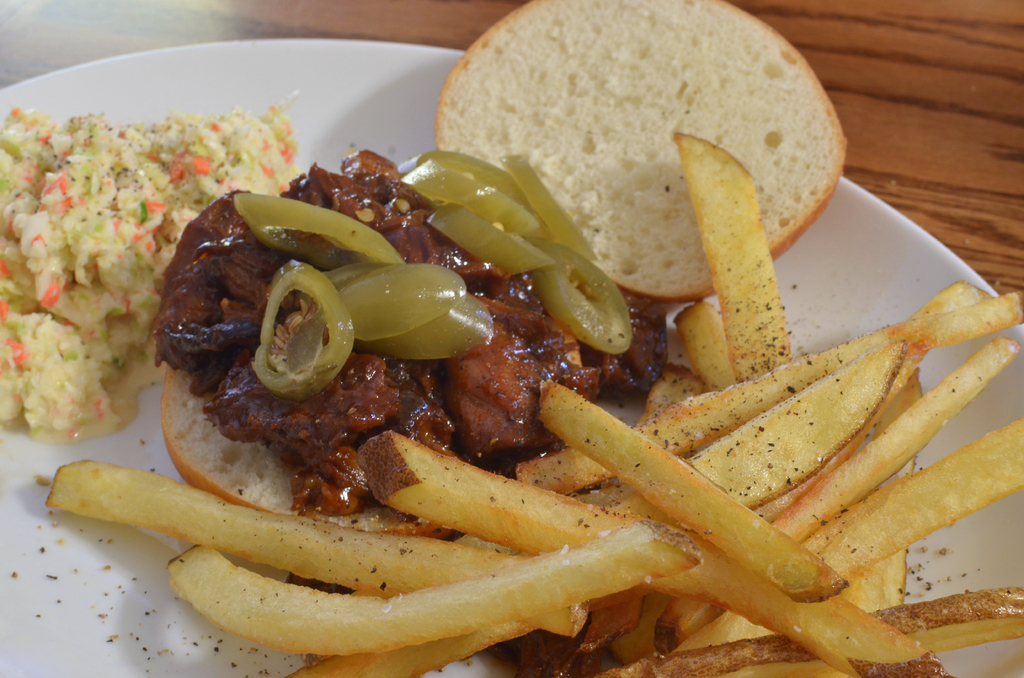French fries: (88, 119, 1011, 646)
